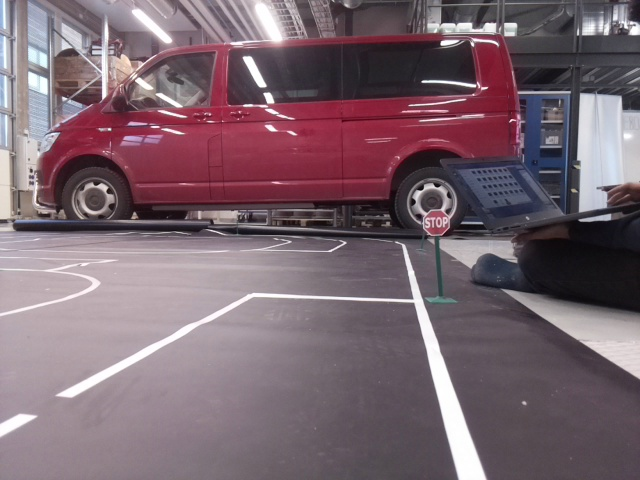Stop: (421, 205, 450, 237)
